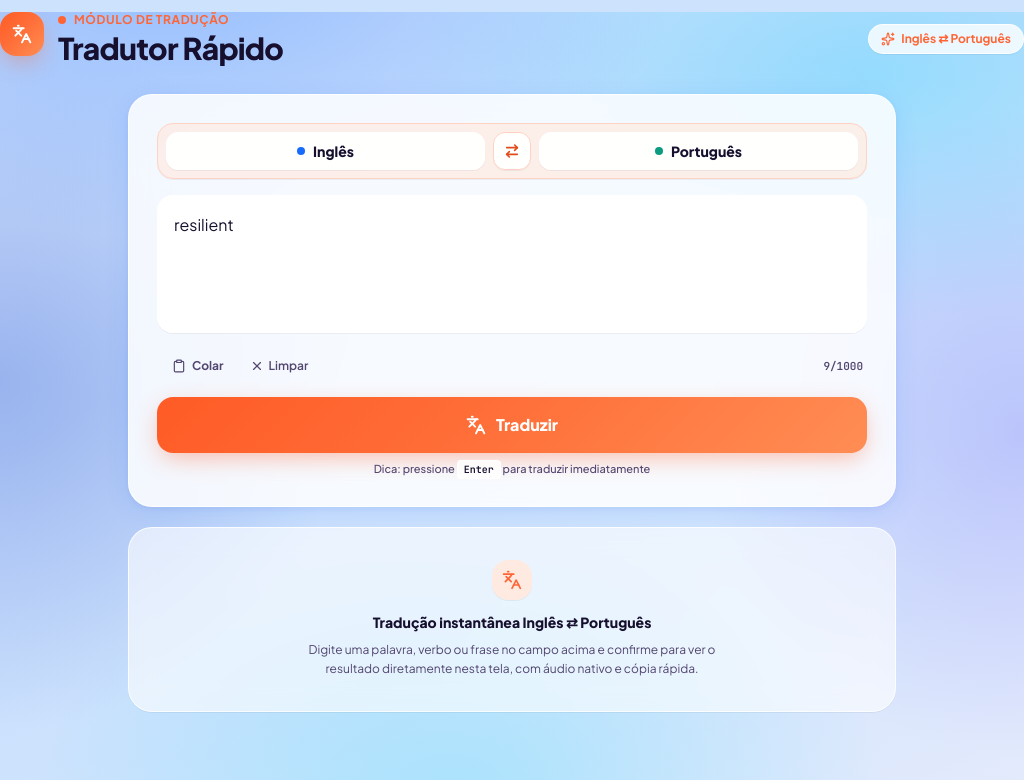
Test case: QuickTranslatorView Component Tests › copies translated result to clipboard and displays feedback
The image size is (1024, 780).
What coordinates should you click on to do the following:
click the button "Traduzir"
I would click on:
 (512, 425)
Its box is 157,397 -> 867,453.
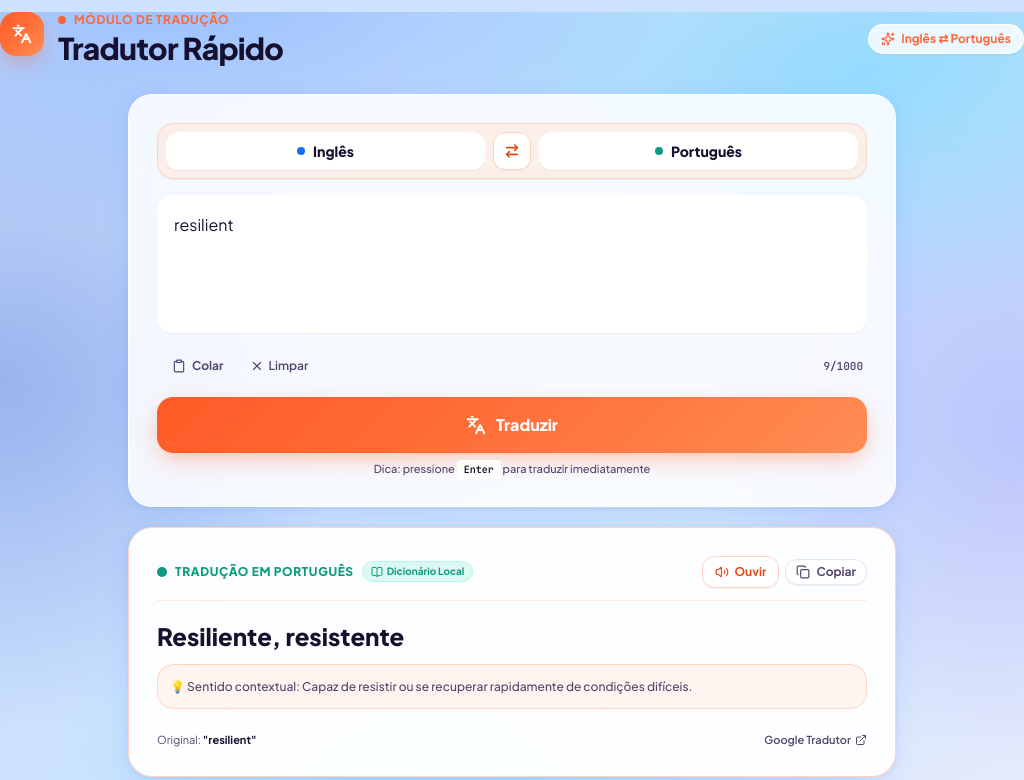
Check: the text "Tradução em Português" is shown, box 175,564 -> 354,580
What coordinates should you click on to do the following:
click the button "Copiar"
I would click on:
 (826, 572)
Its box is 786,558 -> 867,584.
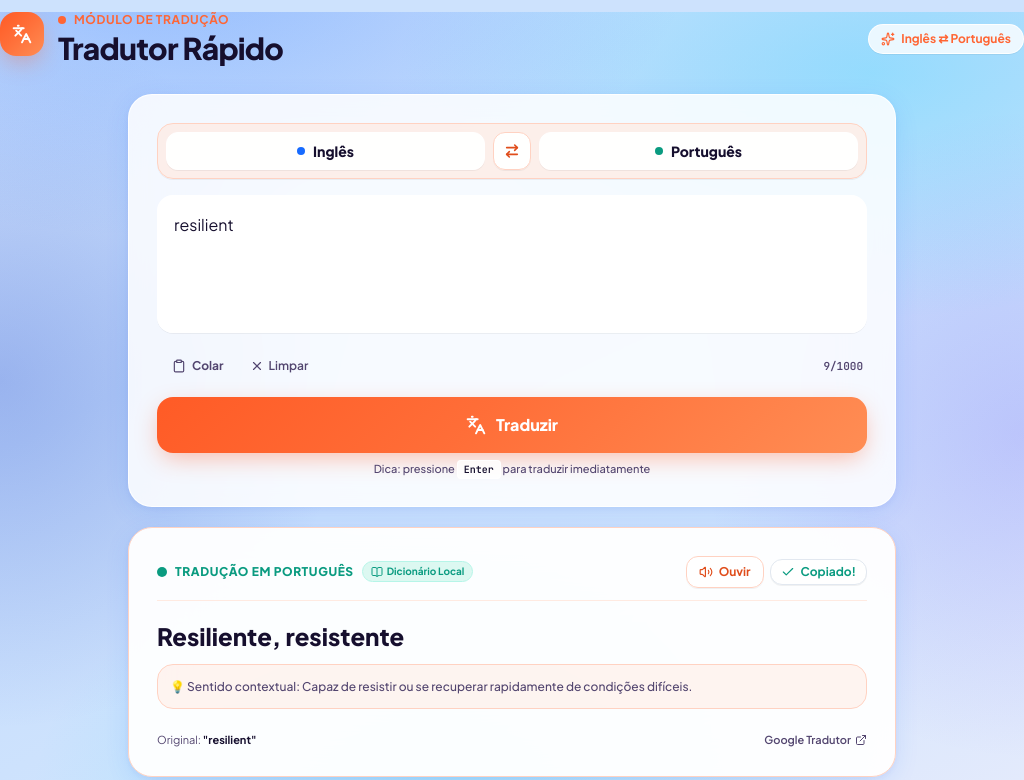
Check: the text "Copiado!" is shown, box 801,564 -> 856,580
